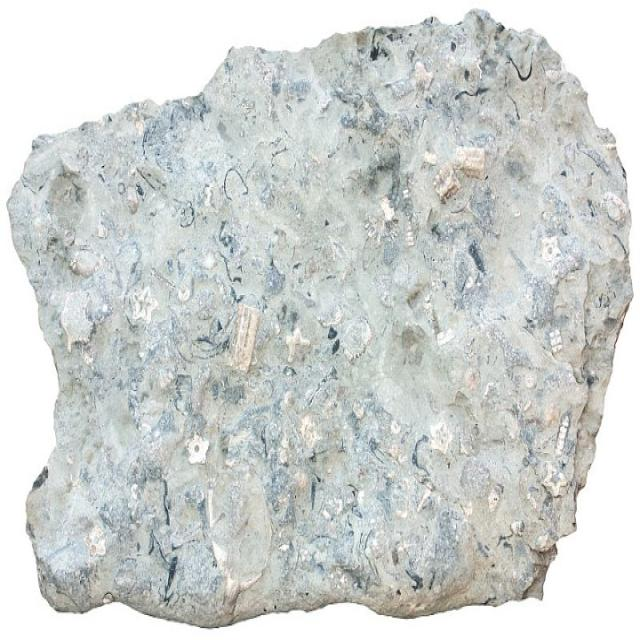Sedimentary: (4, 4, 626, 614)
